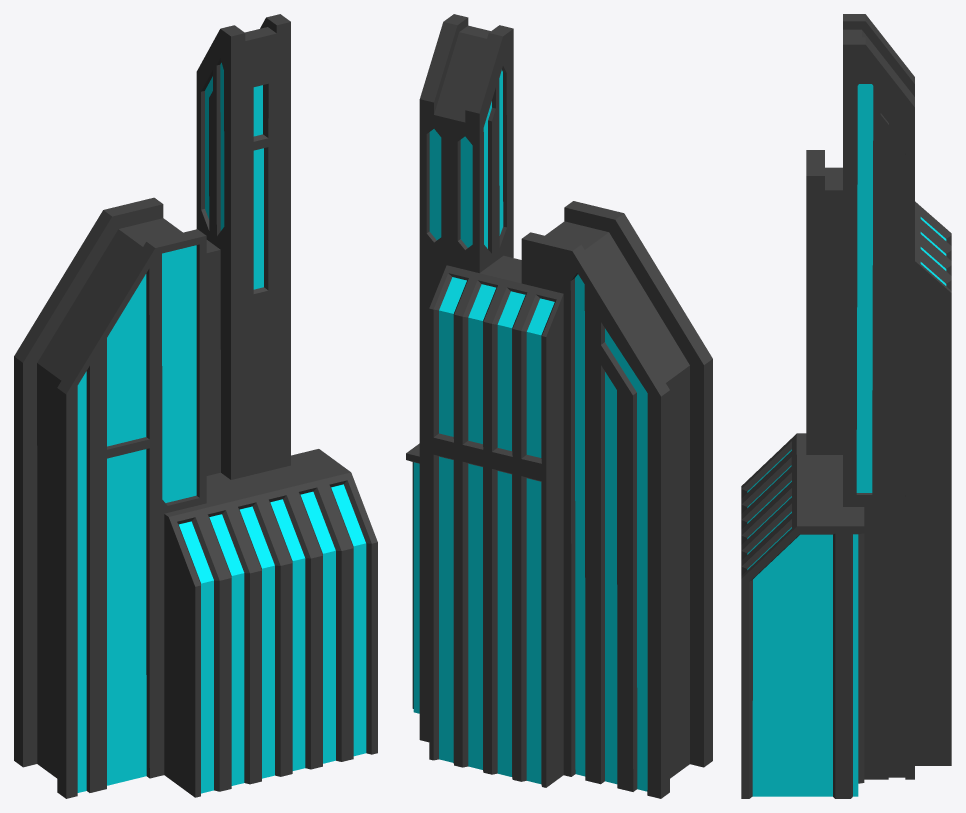
Rendered from Deco Building.fbx.
3 views of the same model, side by side, from view 1: azimuth 30°, elevation 25°; view 2: azimuth 150°, elevation 25°; view 3: azimuth 270°, elevation 25° (orthographic). The views are drawn at different scales.
Visible parts, largest first — view 1: Deco Building 1; view 2: Deco Building 1; view 3: Deco Building 1.
Part boxes in pixels (x1=…): Deco Building 1: x1=14, y1=14, x2=377, y2=798; Deco Building 1: x1=406, y1=14, x2=712, y2=798; Deco Building 1: x1=741, y1=14, x2=951, y2=798.
Size of the model in its own units: 1616 by 3877 by 1004.
